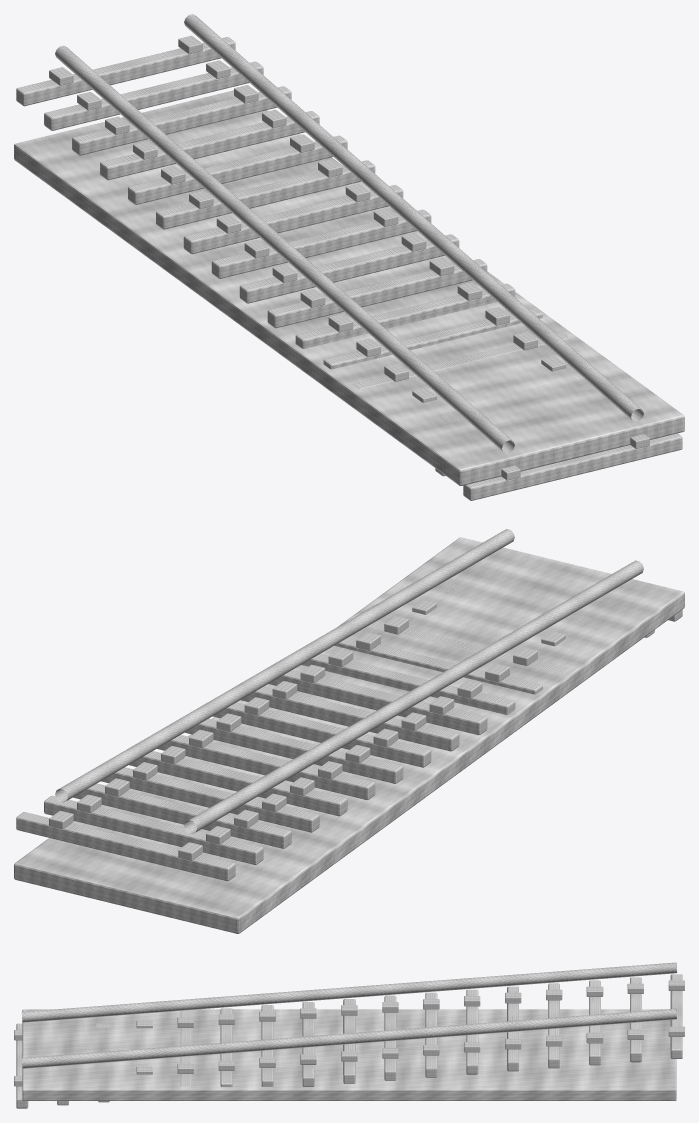
Rendered from railway_variant_c.glb.
3 renders of one model, top to bottom at view 1: azimuth 30°, elevation 25°; view 2: azimuth 150°, elevation 25°; view 3: azimuth 270°, elevation 25°, orthographic. The views are drawn at different scales.
Parts seen in each view (by area): view 1: Incline base, Left rail.002, Right rail.002, Rail sleeper.039, Rail sleeper.053, Rail sleeper.048, Rail sleeper.046, Rail sleeper.047, Rail sleeper.049, Rail sleeper.051, Rail sleeper.054, Rail sleeper.050 (+5 smaller); view 2: Incline base, Left rail.002, Right rail.002, Rail sleeper.055, Rail sleeper.054, Rail sleeper.053, Rail sleeper.046, Rail sleeper.047, Rail sleeper.048, Rail sleeper.052, Rail sleeper.049, Rail sleeper.050 (+4 smaller); view 3: Incline base, Left rail.002, Right rail.002, Rail sleeper.055, Rail sleeper.047, Rail sleeper.046, Rail sleeper.050, Rail sleeper.049, Rail sleeper.048, Rail sleeper.045, Rail sleeper.054, Rail sleeper.051 (+5 smaller).
Boxes of the visible parts, left/top/right/bottom form: Incline base: left=14, top=90, right=684, bottom=485; Left rail.002: left=55, top=45, right=514, bottom=453; Right rail.002: left=184, top=14, right=643, bottom=421; Rail sleeper.039: left=463, top=433, right=682, bottom=500; Rail sleeper.053: left=72, top=86, right=291, bottom=155; Rail sleeper.048: left=211, top=209, right=431, bottom=278; Rail sleeper.046: left=267, top=259, right=487, bottom=328; Rail sleeper.047: left=239, top=234, right=459, bottom=303; Rail sleeper.049: left=183, top=185, right=403, bottom=254; Rail sleeper.051: left=128, top=135, right=347, bottom=204; Rail sleeper.054: left=44, top=61, right=263, bottom=130; Rail sleeper.050: left=156, top=160, right=375, bottom=229; Incline base: left=14, top=537, right=684, bottom=933; Left rail.002: left=184, top=560, right=643, bottom=834; Right rail.002: left=55, top=529, right=514, bottom=802; Rail sleeper.055: left=16, top=812, right=235, bottom=881; Rail sleeper.054: left=44, top=795, right=263, bottom=864; Rail sleeper.053: left=73, top=783, right=291, bottom=848; Rail sleeper.046: left=268, top=670, right=487, bottom=735; Rail sleeper.047: left=241, top=686, right=459, bottom=751; Rail sleeper.048: left=213, top=702, right=431, bottom=767; Rail sleeper.052: left=101, top=767, right=319, bottom=832; Rail sleeper.049: left=185, top=718, right=403, bottom=783; Rail sleeper.050: left=157, top=735, right=375, bottom=799; Incline base: left=22, top=1009, right=676, bottom=1100; Left rail.002: left=21, top=962, right=677, bottom=1022; Right rail.002: left=21, top=1008, right=677, bottom=1068; Rail sleeper.055: left=670, top=974, right=682, bottom=1058; Rail sleeper.047: left=343, top=999, right=355, bottom=1083; Rail sleeper.046: left=302, top=1002, right=314, bottom=1086; Rail sleeper.050: left=466, top=989, right=478, bottom=1074; Rail sleeper.049: left=425, top=992, right=437, bottom=1077; Rail sleeper.048: left=384, top=995, right=396, bottom=1080; Rail sleeper.045: left=261, top=1005, right=273, bottom=1086; Rail sleeper.054: left=630, top=977, right=641, bottom=1062; Rail sleeper.051: left=507, top=986, right=518, bottom=1071.
Bounding box in the file's own units: 3.5 × 1.71 × 12.3.
3 materials, 3 textured.
